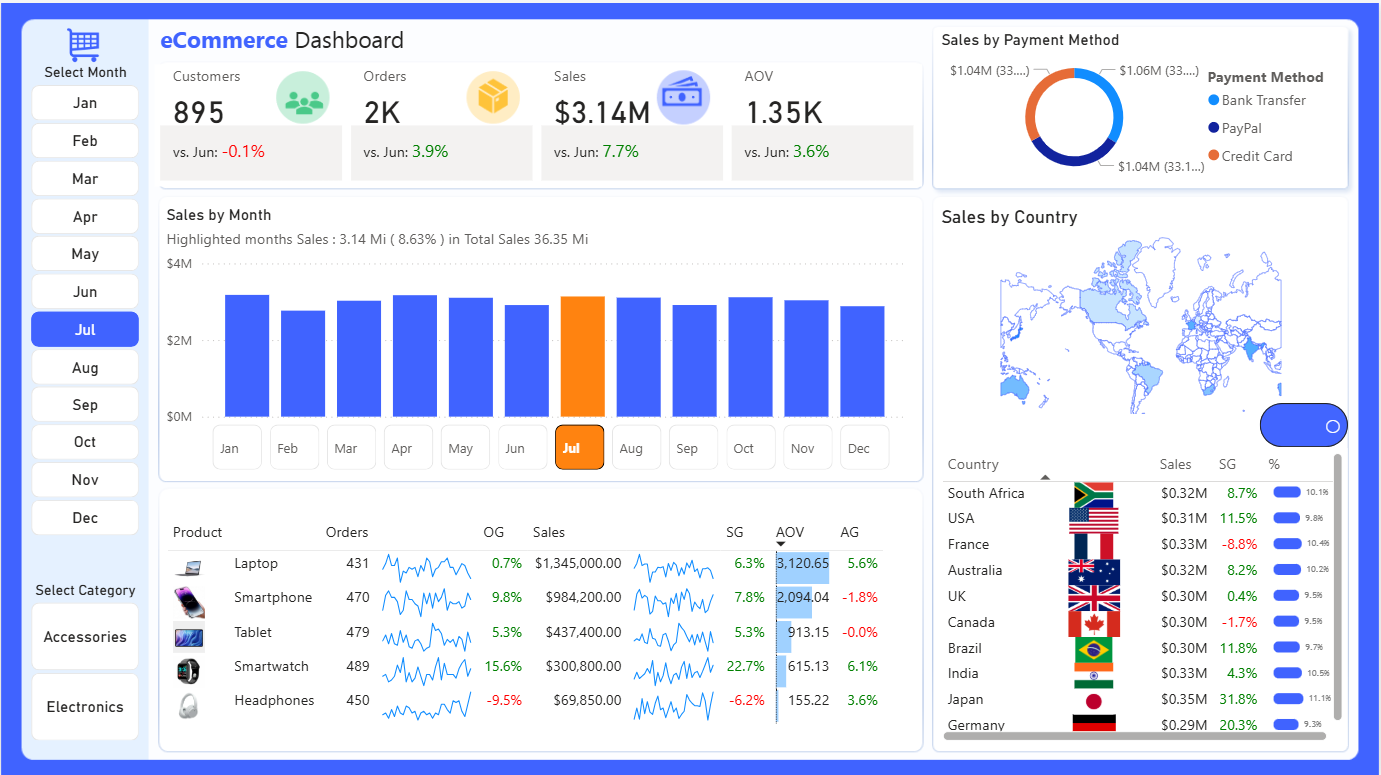

What the dashboard file says about the page in this screenshot:
{"tool":"powerbi","page":{"name":"Overview","canvas":[1280,720],"ordinal":0},"visuals":[{"type":"cardVisual","fields":{"Data":["_Measures.Customers","_Measures.Orders","_Measures.Sales","_Measures.AOV"]},"box":[143.1,56.7,712.9,113.4],"z":0},{"type":"advancedSlicerVisual","title":"Select Month","fields":{"Values":["Calendar.Month"]},"box":[22.7,56.7,110.6,443.6],"z":1000},{"type":"advancedSlicerVisual","title":"Select Category","fields":{"Values":["dimProduct.Category"]},"box":[22.7,537.2,110.6,153.1],"z":2000},{"type":"donutChart","fields":{"Y":["_Measures.Sales"],"Category":["dimPaymentMethod.Payment Method"]},"box":[868.8,25.5,381.3,144.6],"z":3000},{"type":"clusteredColumnChart","fields":{"Y":["_Measures.Sales"],"Category":["Calendar.Month"]},"box":[148.8,188.5,698.7,209.8],"z":4000},{"type":"advancedSlicerVisual","fields":{"Values":["Month Param.Month Param"]},"box":[191.3,386.9,650.6,52.4],"z":5000},{"type":"tableEx","fields":{"Values":["dimProduct.Img","dimProduct.Product Name","_Measures.Orders","SparklineData(_Measures.Orders_[Calendar.Day])","_Measures.Orders Growth","_Measures.Sales","SparklineData(_Measures.Sales_[Calendar.Day])","_Measures.Sales Growth","_Measures.AOV","_Measures.AOV Growth"]},"box":[148.8,474.8,698.7,215.4],"z":6000},{"type":"shapeMap","fields":{"Value":["_Measures.Sales"],"Category":["dimCountry.Country"]},"box":[868.8,188.5,381.3,198.4],"z":7000},{"type":"tableEx","fields":{"Values":["dimCountry.Continent","_Measures.Sales","_Measures.Sales Growth","_Measures.Continent Rounded Chart"]},"box":[869.2,413.8,381,276.8],"z":8000},{"type":"tableEx","fields":{"Values":["dimCountry.Country","dimCountry.Img","_Measures.Sales","_Measures.Sales Growth","_Measures.Continent Rounded Chart"]},"box":[869.2,413.8,382.5,276.8],"z":9000},{"type":"bookmarkNavigator","box":[1168.9,371.1,82.5,41.2],"z":10000},{"type":"textbox","box":[143.1,14.2,299.1,42.5],"z":11000},{"type":"image","box":[53.9,14.2,48.2,51],"z":12000}]}

Visuals, with their boxes in screenshot pixels (x1, y1, x2, y2), scaled from the page's 1280x720 canvas onto the 1381x775 screenshot:
cardVisual - _Measures.Customers x _Measures.Orders: [154, 61, 924, 183]
"Select Month" advancedSlicerVisual: [24, 61, 144, 539]
"Select Category" advancedSlicerVisual: [24, 578, 144, 743]
donutChart - _Measures.Sales x dimPaymentMethod.Payment Method: [937, 27, 1349, 183]
clusteredColumnChart - _Measures.Sales x Calendar.Month: [161, 203, 914, 429]
advancedSlicerVisual - Month Param.Month Param: [206, 416, 908, 473]
tableEx - dimProduct.Img x dimProduct.Product Name: [161, 511, 914, 743]
shapeMap - _Measures.Sales x dimCountry.Country: [937, 203, 1349, 416]
tableEx - dimCountry.Continent x _Measures.Sales: [938, 445, 1349, 743]
tableEx - dimCountry.Country x dimCountry.Img: [938, 445, 1350, 743]
bookmarkNavigator: [1261, 399, 1350, 444]
textbox: [154, 15, 477, 61]
image: [58, 15, 110, 70]
